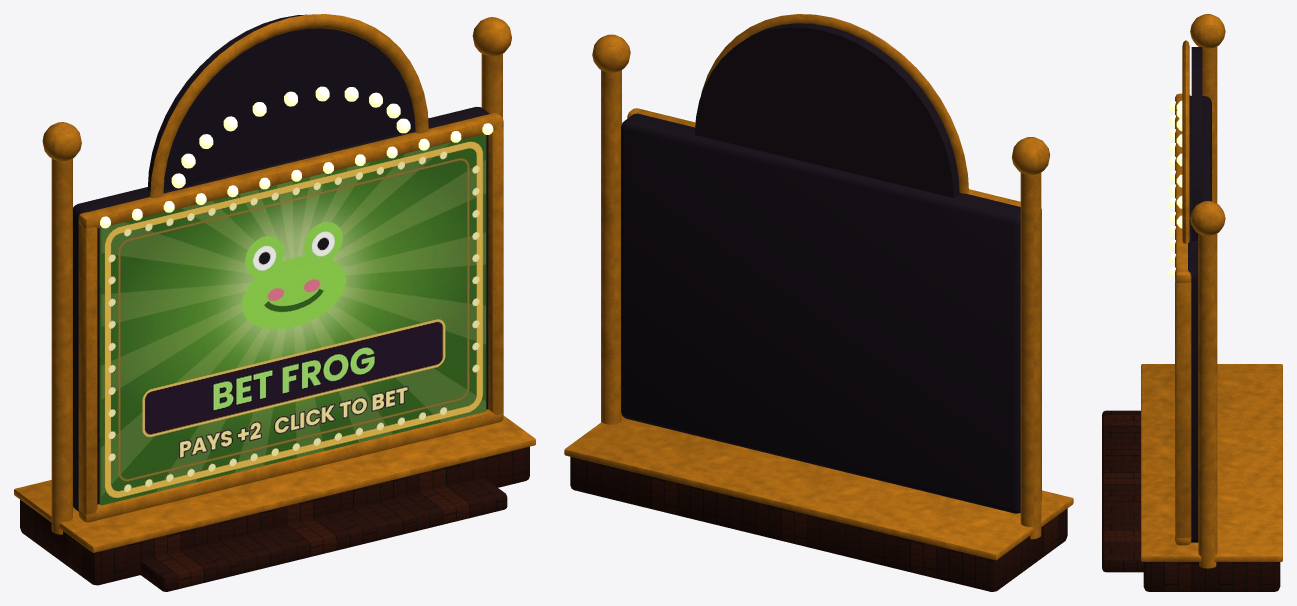
File: bet-frog.glb
3 renders of one model, left to right at view 1: azimuth 30°, elevation 25°; view 2: azimuth 150°, elevation 25°; view 3: azimuth 270°, elevation 25°, orthographic. The views are drawn at different scales.
Visible parts, largest first — view 1: bet-frog; view 2: bet-frog; view 3: bet-frog.
Boxes of the visible parts, <box> form: bet-frog: <box>14,14,535,591</box>; bet-frog: <box>564,14,1073,591</box>; bet-frog: <box>1102,14,1282,591</box>.
Bounding box in the file's own units: 3.49 × 3.6 × 1.32.
5 materials, 3 textured.
